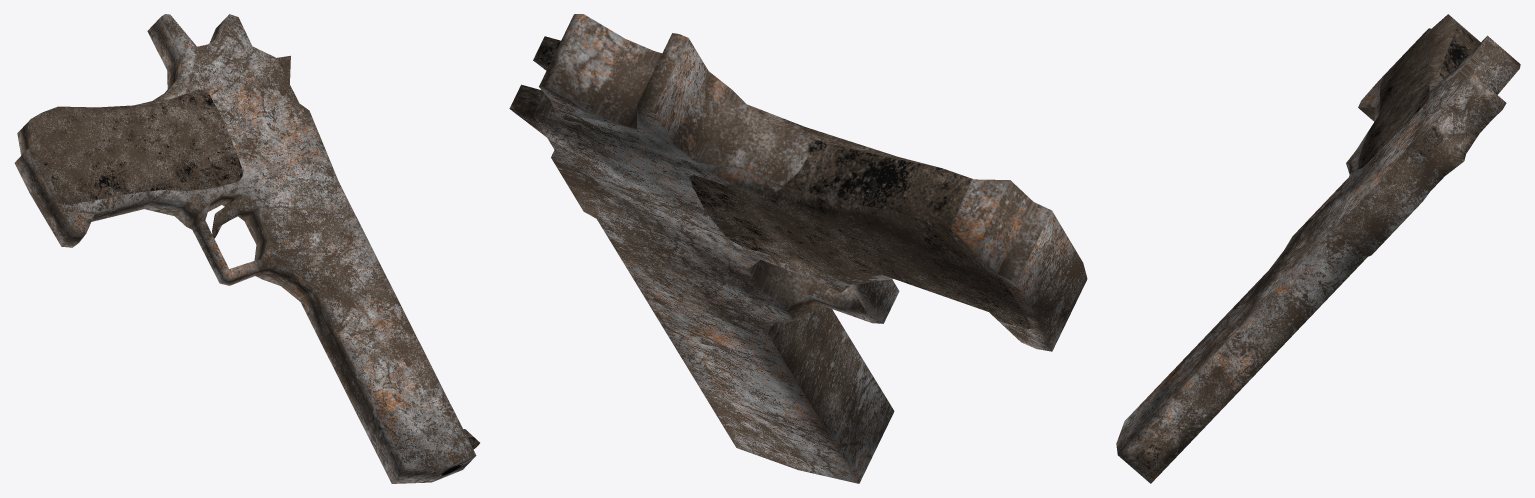
Rendered from Anim_disparar_pistola_objetos.0020.obj.
3 renders of one model, left to right at view 1: azimuth 30°, elevation 25°; view 2: azimuth 150°, elevation 25°; view 3: azimuth 270°, elevation 25°, orthographic. The views are drawn at different scales.
Visible parts, largest first — view 1: Pistola1; view 2: Pistola1; view 3: Pistola1.
Boxes of the visible parts, left/top/right/bottom form: Pistola1: left=14, top=14, right=479, bottom=483; Pistola1: left=509, top=14, right=1087, bottom=483; Pistola1: left=1116, top=14, right=1520, bottom=483.
Size of the model in its own units: 1.15 by 1.31 by 1.25.
